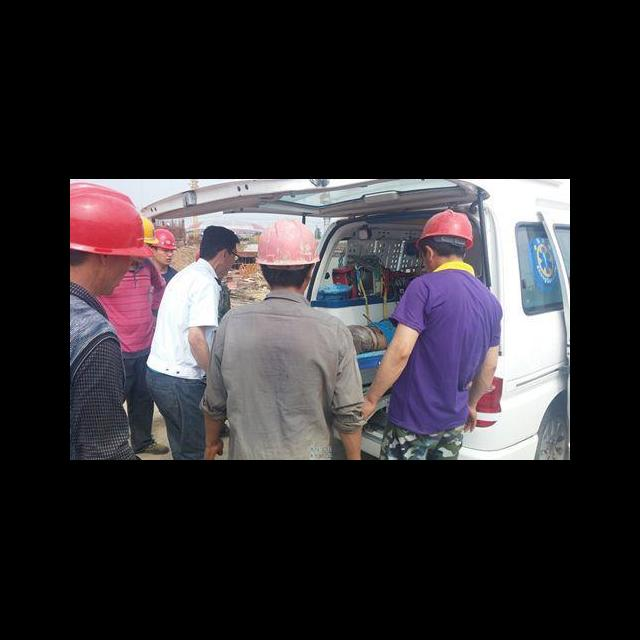Hardhat: (199, 217, 363, 460), (360, 210, 503, 460), (71, 184, 154, 260), (254, 217, 322, 266), (415, 211, 475, 250), (140, 216, 159, 246), (155, 229, 177, 250), (194, 252, 201, 262)
NO-Hardhat: (199, 225, 241, 249)
NO-Mask: (97, 268, 123, 299), (215, 263, 233, 277), (157, 256, 173, 265), (423, 259, 433, 272), (135, 255, 147, 265)
NO-Safety Vest: (221, 304, 331, 460), (393, 272, 484, 436), (70, 302, 124, 460), (151, 267, 213, 377), (101, 266, 156, 358), (154, 269, 176, 318), (220, 286, 231, 315)
Person: (149, 225, 236, 460), (71, 182, 144, 461), (97, 213, 170, 460), (192, 251, 231, 318), (151, 227, 178, 283)
van: (141, 180, 564, 460)
